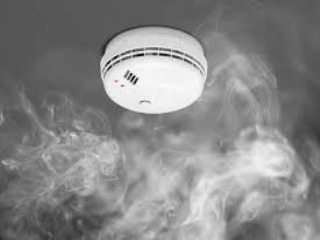smoke: (22, 111, 303, 232)
